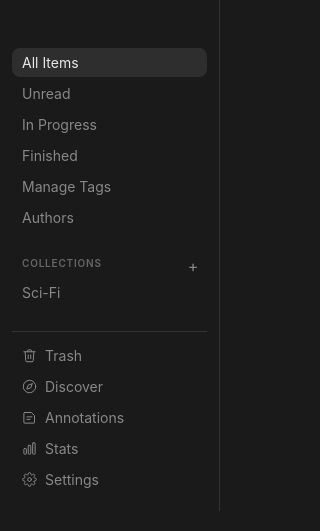
Scenario: Sidebar — collections CRUD › cancels rename on Escape
Right-click the text "Sci-Fi" at (41, 292), box [22,284,60,301]
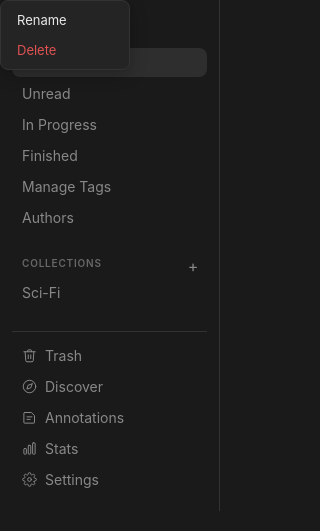
Click the button "Rename" at (65, 20), box [5,5,125,35]
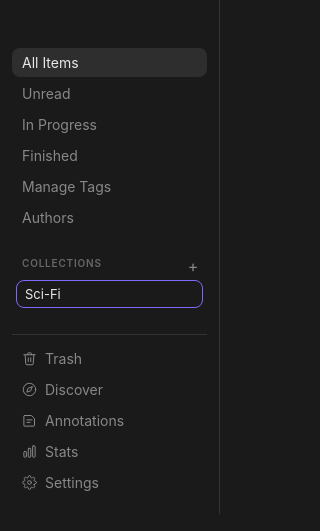
Replace the text in the field showing "Sci-Fi" with "Y" at (110, 294), box [16,280,203,308]
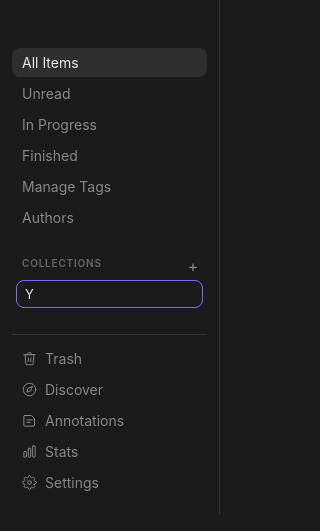
Press Escape in the field showing "Sci-Fi", box [16,280,203,308]
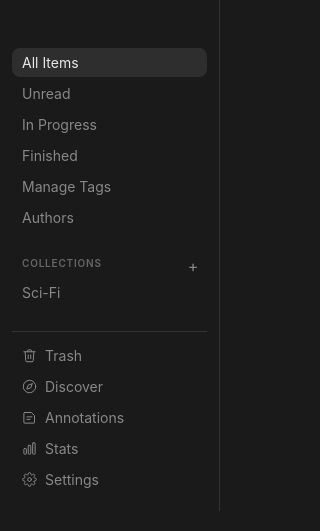
Now the text "Sci-Fi" is shown, box [22,284,60,301]
